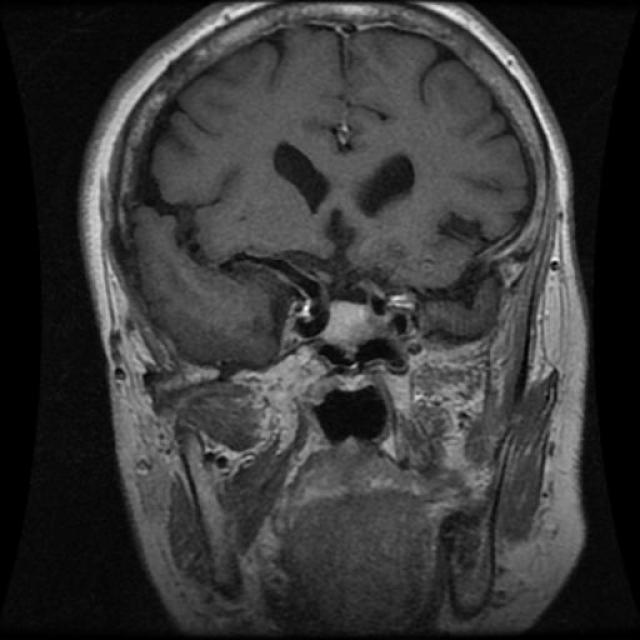pituitary: (288, 278, 425, 373)
